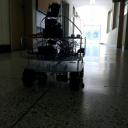cart: (20, 37, 86, 92)
